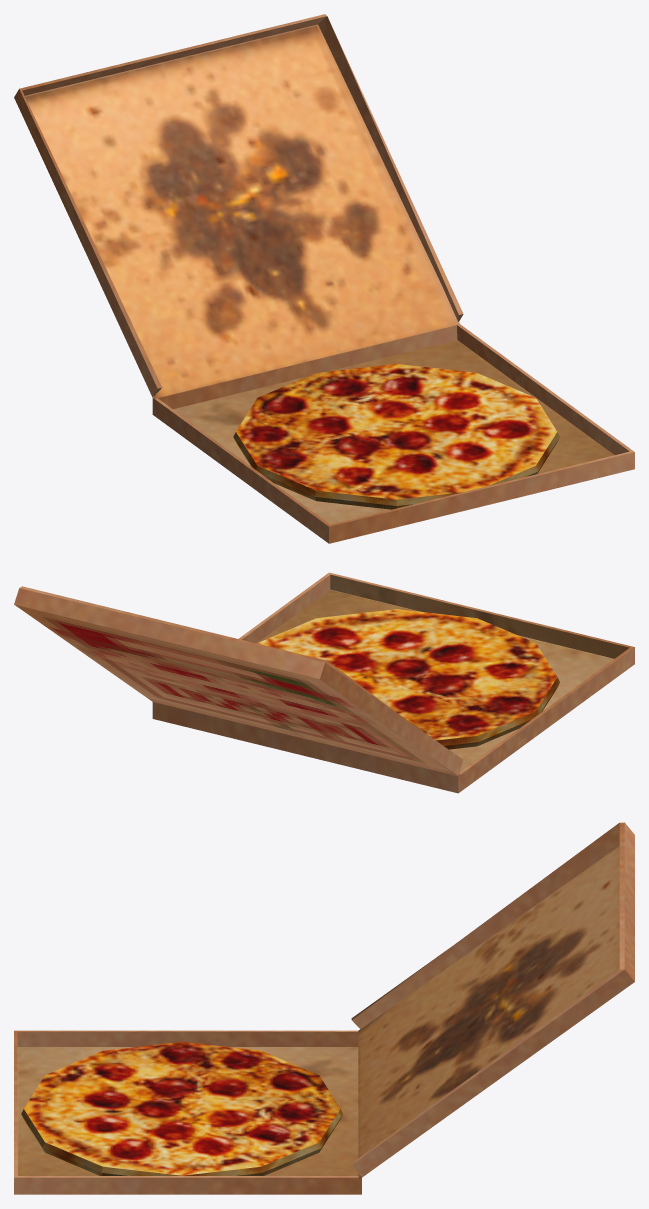
Rendered from pizza_full.obj.
3 views of the same model, one above another, from view 1: azimuth 30°, elevation 25°; view 2: azimuth 150°, elevation 25°; view 3: azimuth 270°, elevation 25° (orthographic).
Parts seen in each view (by area): view 1: pizza_full; view 2: pizza_full; view 3: pizza_full.
Boxes of the visible parts, x1=… form: pizza_full: x1=14, y1=14, x2=634, y2=543; pizza_full: x1=14, y1=572, x2=634, y2=793; pizza_full: x1=14, y1=822, x2=634, y2=1194.
Bounding box in the file's own units: 0.5276 × 0.3762 × 0.9413.
